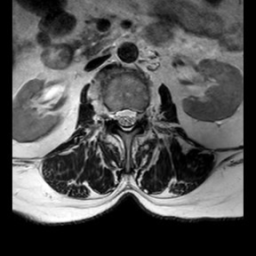CCS_normal: (122, 98, 130, 140)
LFS_normal: (136, 98, 145, 126)
LLS_normal: (130, 100, 137, 132)
RFS_normal: (106, 98, 114, 127)
RLS_normal: (114, 100, 122, 131)
